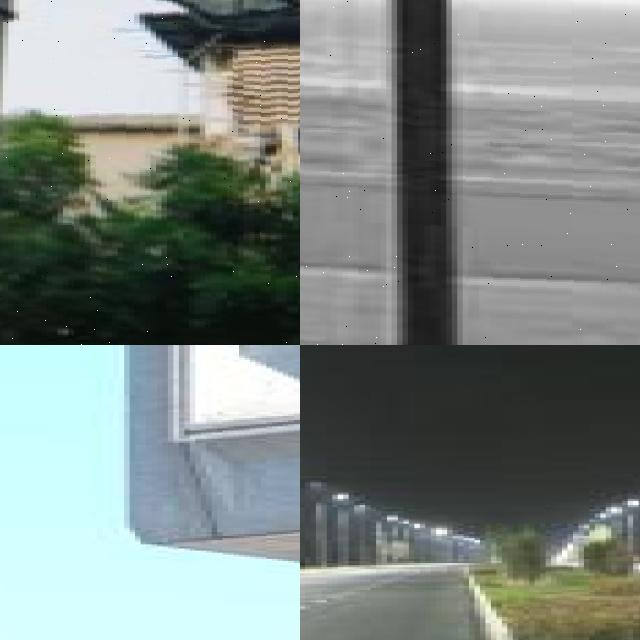street light: (300, 0, 640, 345), (0, 0, 300, 345), (316, 493, 349, 567), (300, 478, 324, 565), (627, 501, 640, 562)
